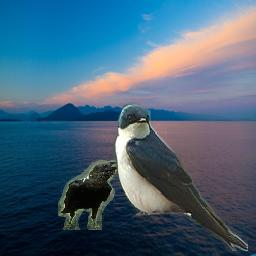Crow: (59, 160, 126, 231)
Swallow: (114, 103, 249, 252)
